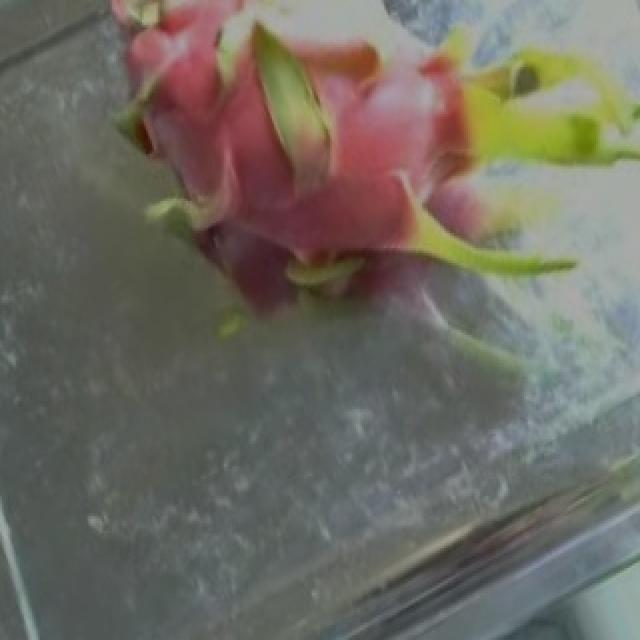fruit: (228, 0, 640, 427), (34, 0, 396, 412)
